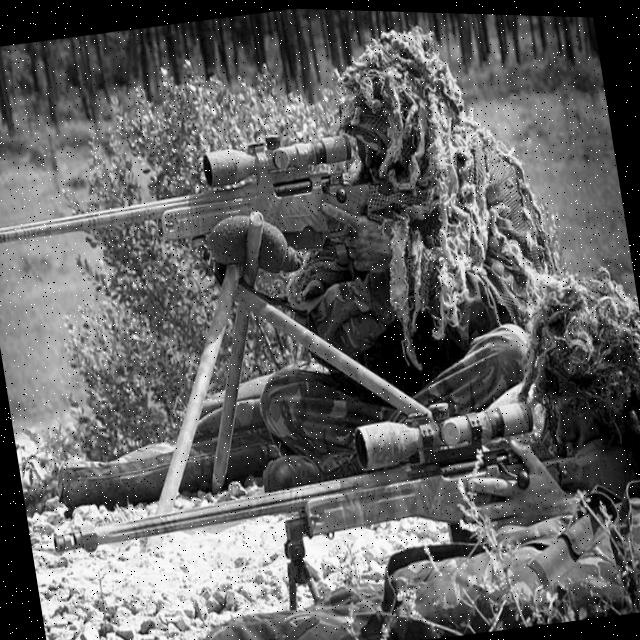firearm: (39, 363, 630, 589), (0, 112, 371, 300)
